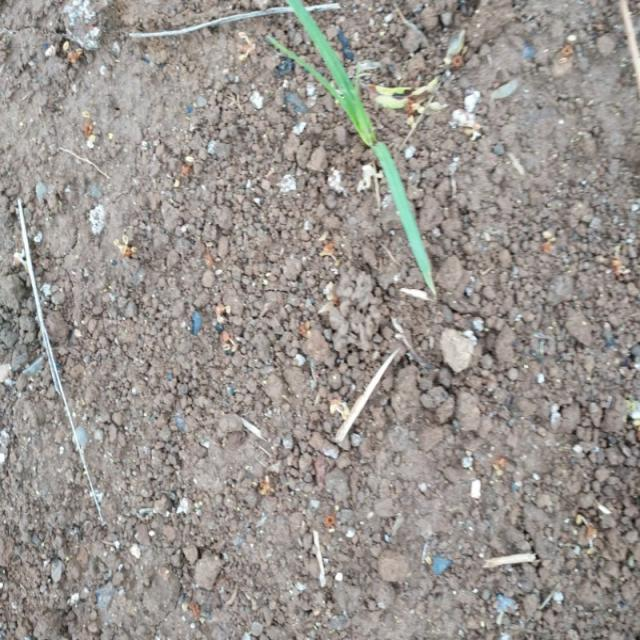sedge: (262, 4, 480, 319)
